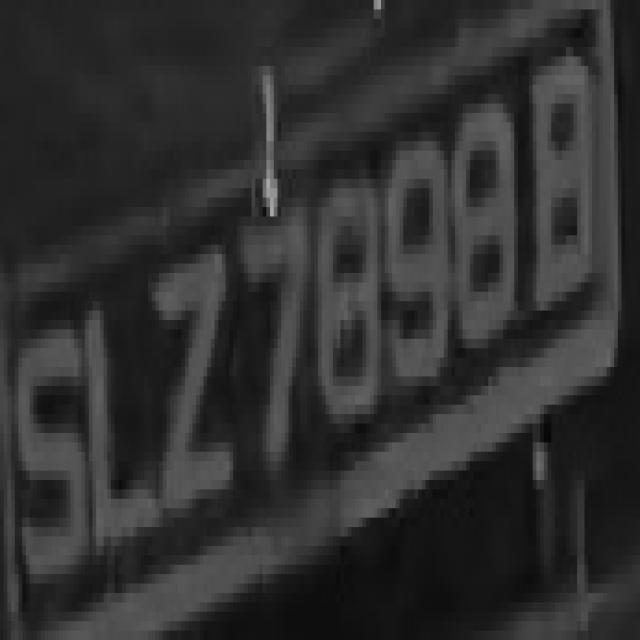7: (233, 179, 311, 499)
8: (451, 103, 533, 404), (300, 170, 384, 462)
9: (377, 113, 448, 423)
B: (518, 19, 599, 348)
L: (81, 235, 163, 574)
S: (11, 283, 89, 622)
Z: (144, 236, 233, 536)
